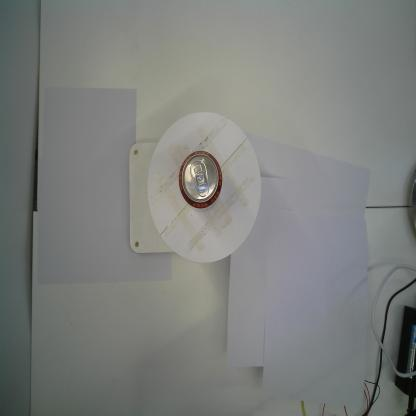Drink: (177, 150, 223, 214)
